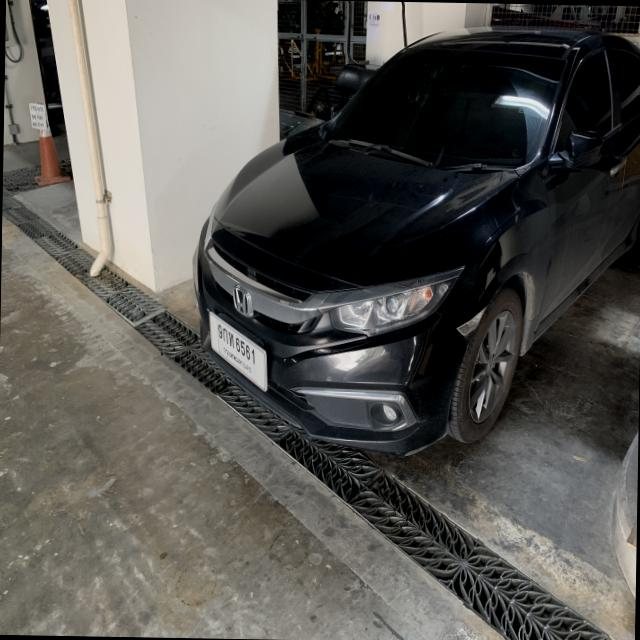license_plate: (207, 308, 270, 393)
